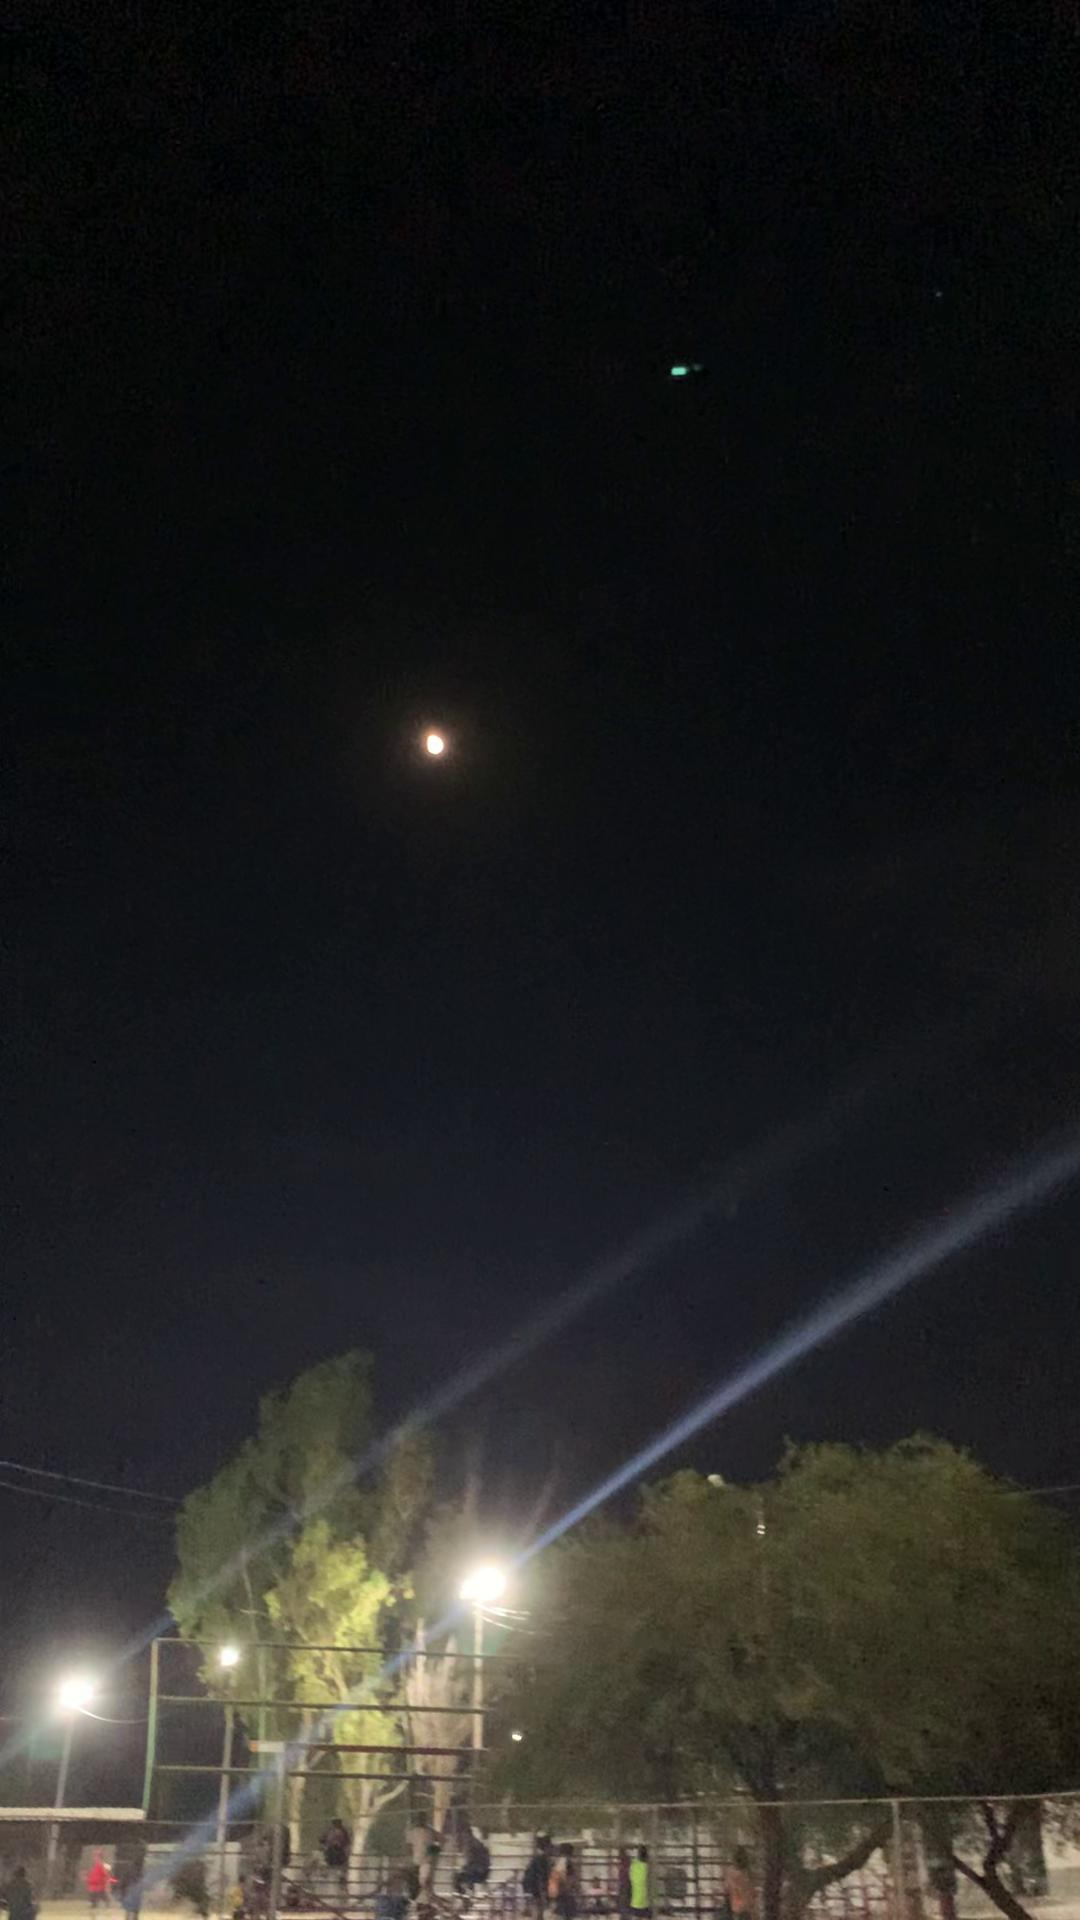moon: (397, 709, 476, 799)
